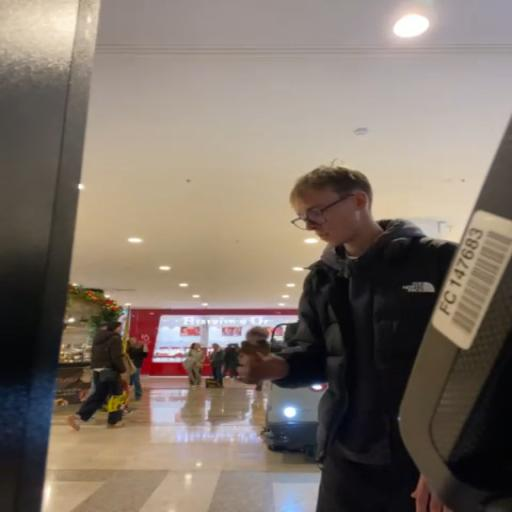kendama_ball: (246, 326, 269, 343)
